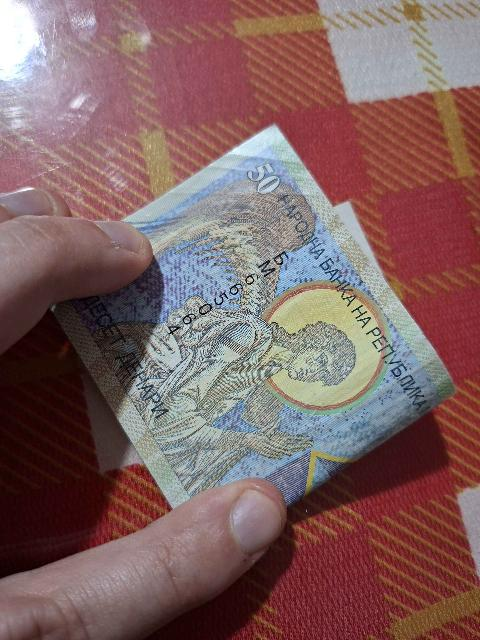note: (56, 127, 453, 505)
